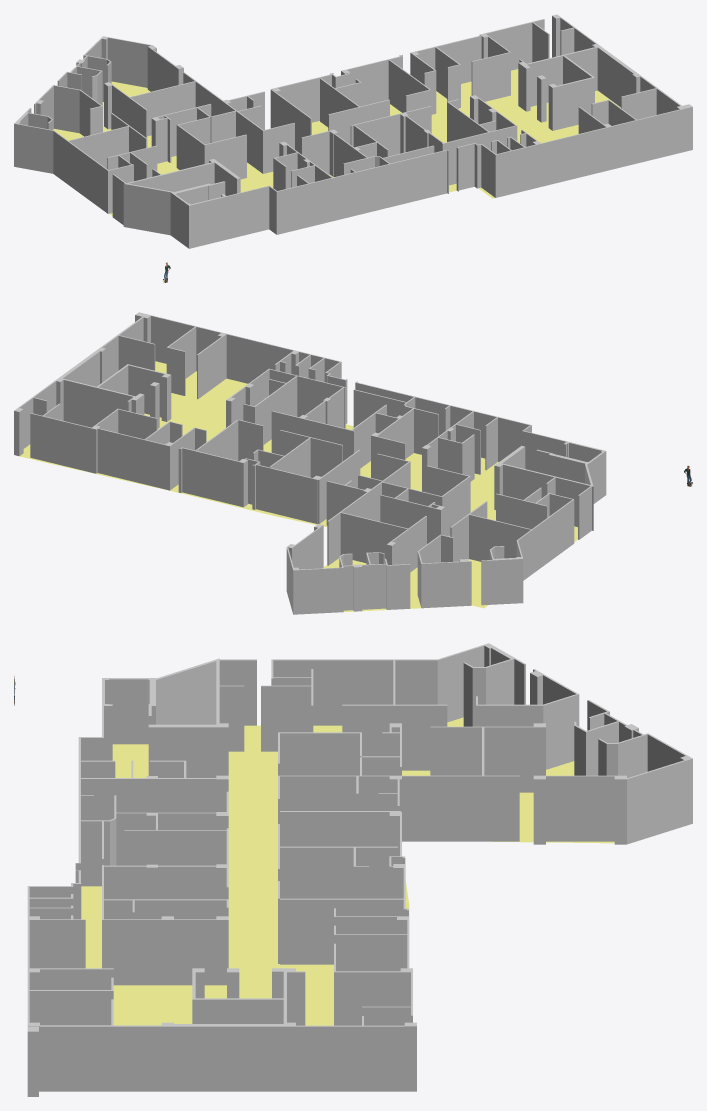
File: 4TH FLOOR.fbx
3 views of the same model, one above another, from view 1: azimuth 30°, elevation 25°; view 2: azimuth 150°, elevation 25°; view 3: azimuth 270°, elevation 25° (orthographic). The views are drawn at different scales.
Parts seen in each view (by area): view 1: Group47, Group176, Group111, Group44, Group68, Group19, Group113, Group123, Group71, Group170, Group166, Group112 (+63 smaller); view 2: Group176, Group11, Group104, Group12, Group103, Group170, Group166, Group171, Group35, Group26, Group127, Group112 (+67 smaller); view 3: Group176, Group142, Group55, Group143, Group150, Group166, Group80, Group73, Group62, Group3, Group32, Group75 (+46 smaller).
Part boxes in pixels (x1,y1,x2,y2): Group47: (333, 150, 448, 220); Group176: (53, 69, 620, 215); Group111: (612, 109, 680, 169); Group44: (123, 179, 173, 235); Group68: (471, 36, 510, 101); Group19: (227, 186, 269, 239); Group113: (495, 144, 536, 197); Group123: (108, 37, 152, 87); Group71: (54, 85, 102, 136); Group170: (130, 81, 195, 136); Group166: (447, 102, 517, 150); Group112: (573, 127, 606, 178); Group176: (20, 361, 577, 611); Group11: (97, 428, 164, 489); Group104: (30, 413, 90, 472); Group12: (181, 447, 238, 505); Group103: (255, 464, 312, 522); Group170: (340, 512, 407, 562); Group166: (249, 368, 297, 444); Group171: (299, 567, 342, 614); Group35: (469, 514, 531, 561); Group26: (421, 561, 460, 608); Group127: (503, 464, 575, 526); Group112: (226, 334, 261, 383); Group176: (81, 717, 614, 1025); Group142: (40, 1025, 161, 1091); Group55: (402, 775, 519, 841); Group143: (174, 1024, 283, 1091); Group150: (296, 1025, 404, 1091); Group166: (102, 899, 226, 985); Group80: (278, 846, 397, 898); Group73: (430, 726, 533, 792); Group62: (280, 898, 403, 964); Group3: (78, 778, 216, 820); Group32: (546, 775, 614, 841); Group75: (342, 704, 447, 770).
Size of the model in its own units: 45.47 by 3.52 by 33.07.
